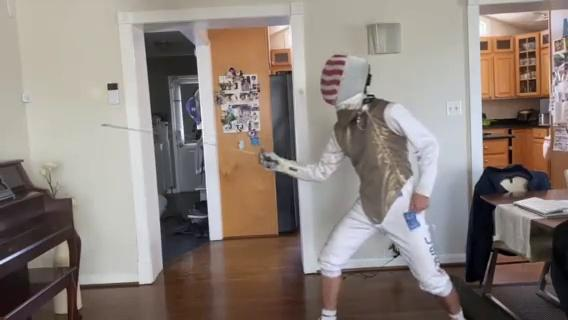blade-guard: (257, 147, 266, 166)
blade-tip: (100, 123, 136, 132)
fencing-blade: (100, 121, 281, 173)
